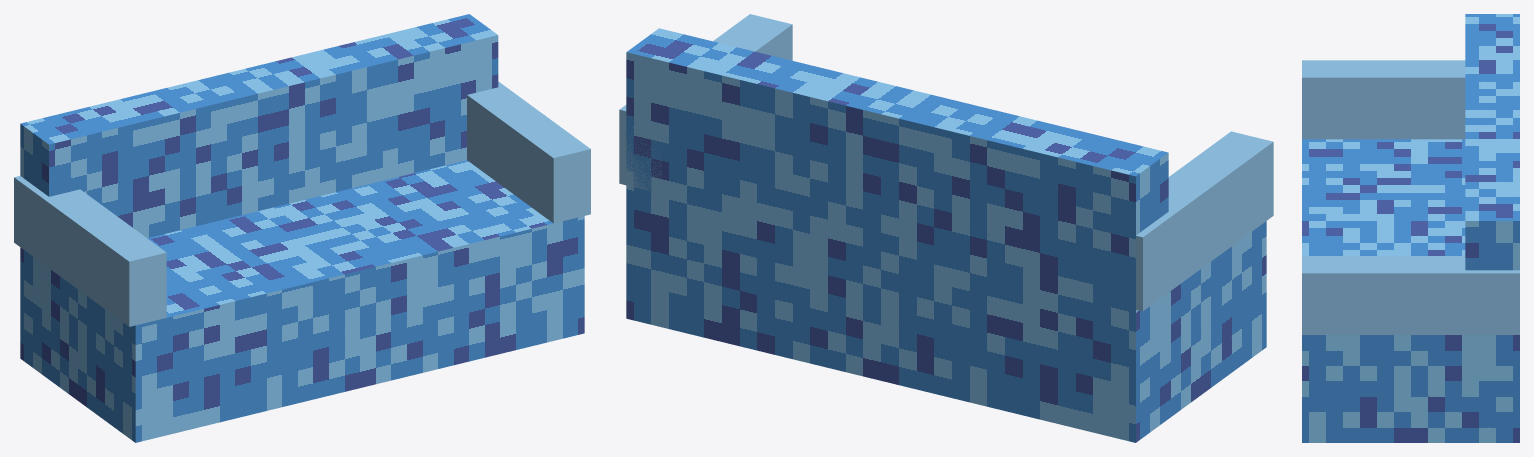
File: movel_b07.glb
3 renders of one model, left to right at view 1: azimuth 30°, elevation 25°; view 2: azimuth 150°, elevation 25°; view 3: azimuth 270°, elevation 25°, orthographic. The views are drawn at different scales.
Visible parts, largest first — view 1: movel_b07; view 2: movel_b07; view 3: movel_b07.
Part boxes in pixels (x1,y1,x2,y2): movel_b07: (14,14,590,442); movel_b07: (619,14,1273,442); movel_b07: (1302,14,1519,442).
Size of the model in its own units: 1.85 by 0.9 by 0.8.
Materials: 2 (1 with a texture image).
